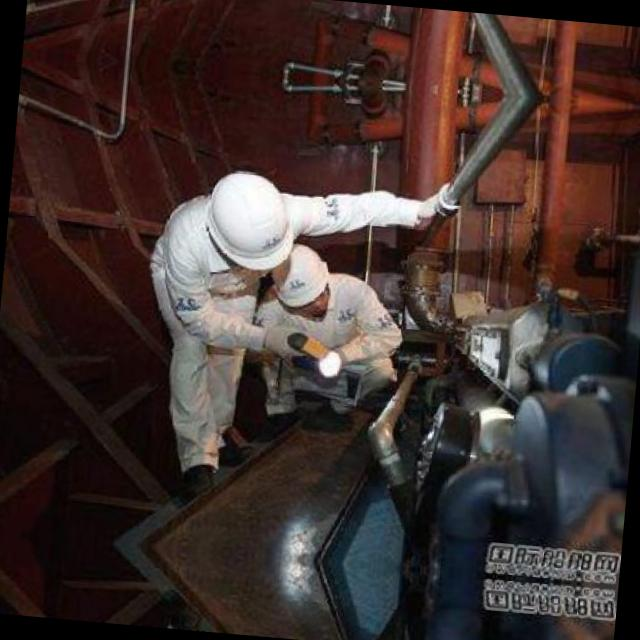helmet: (192, 164, 302, 288), (265, 240, 342, 323)
